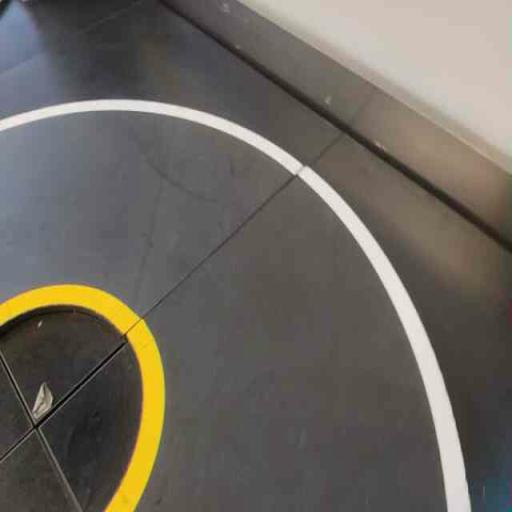left: (43, 144, 503, 511)
